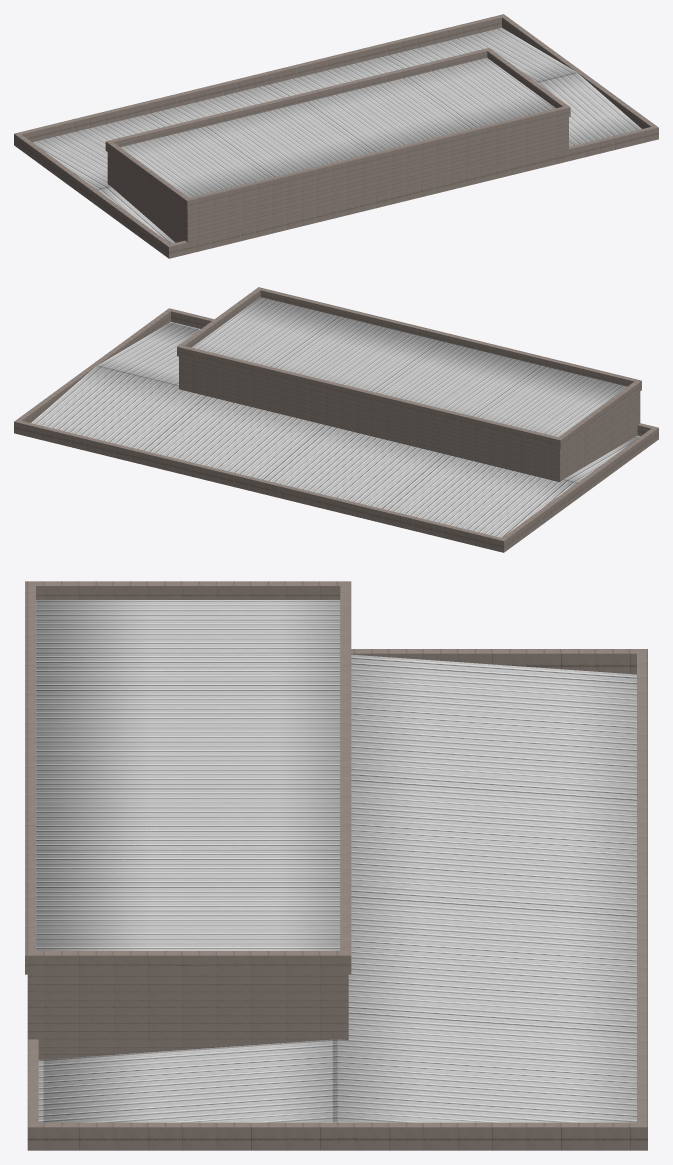
The model's file is Logistics-ROOF.glb.
3 views of the same model, one above another, from view 1: azimuth 30°, elevation 25°; view 2: azimuth 150°, elevation 25°; view 3: azimuth 270°, elevation 25° (orthographic). The views are drawn at different scales.
Parts seen in each view (by area): view 1: ROOF, Line2330, Line2329, Line2333, Line2331; view 2: Line2333, ROOF, Line2329, Line2330, Line2331; view 3: Line2333, ROOF, Line2330, Line2329, Line2331.
Boxes of the visible parts, x1,y1,x2,y2 form: ROOF: (120, 58, 555, 197); Line2330: (14, 14, 658, 258); Line2329: (107, 117, 568, 252); Line2333: (32, 27, 641, 243); Line2331: (105, 48, 570, 210); Line2333: (31, 322, 640, 537); ROOF: (192, 297, 626, 436); Line2329: (179, 356, 640, 481); Line2330: (14, 308, 658, 552); Line2331: (177, 287, 641, 449); Line2333: (38, 654, 636, 1122); ROOF: (36, 600, 340, 950); Line2330: (27, 649, 647, 1150); Line2329: (27, 974, 348, 1059); Line2331: (25, 581, 351, 974).
Bounding box in the file's own units: 82.13 × 9.99 × 45.22.
Materials: 6 (5 with a texture image).
